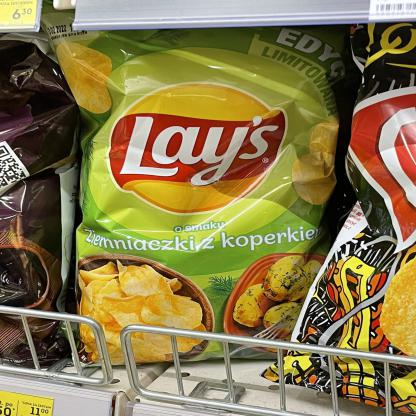potatochip: (46, 14, 348, 371), (286, 15, 416, 416)
